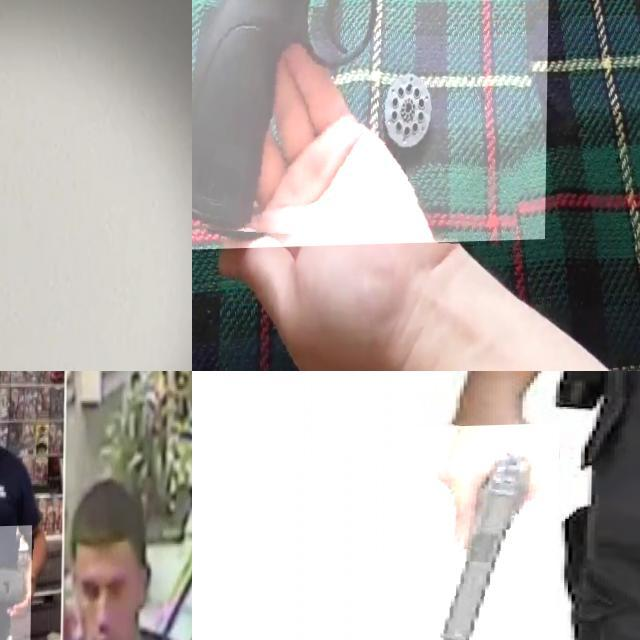gun-knife-thesis - v11 Yolov5 augmented: (192, 0, 551, 250), (416, 425, 560, 640), (0, 141, 110, 371), (0, 526, 78, 640)
